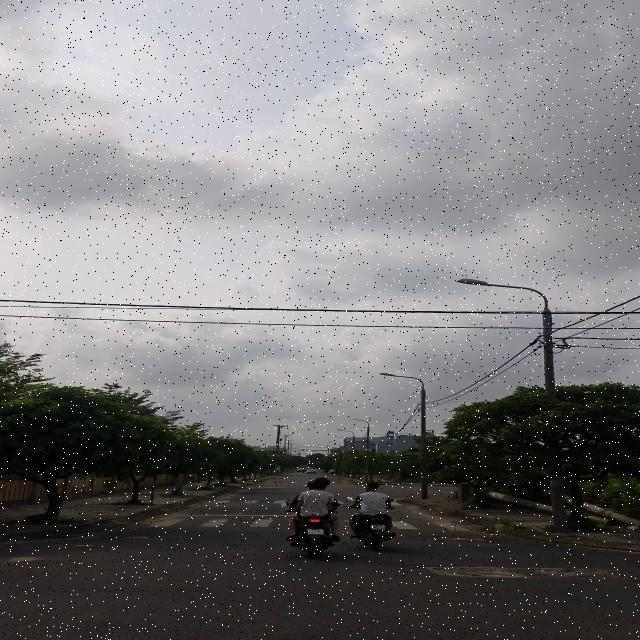no_helmet: (364, 478, 384, 496), (311, 476, 330, 491)
